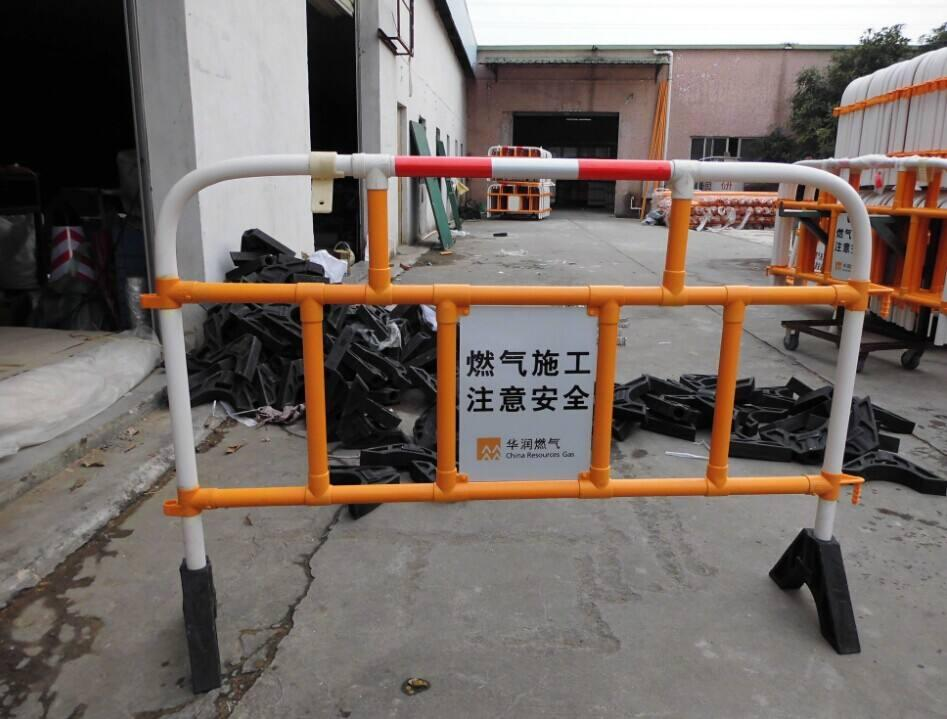sign: (130, 124, 918, 658)
